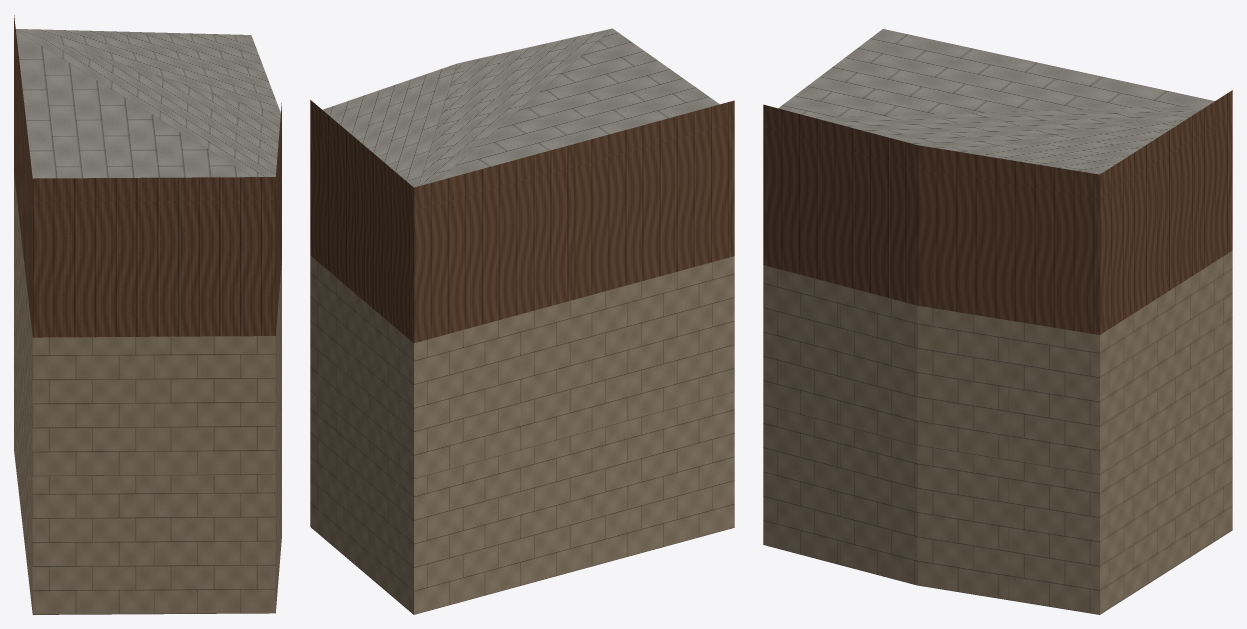
Rendered from bld_c33_-33_443.gltf.
3 renders of one model, left to right at view 1: azimuth 30°, elevation 25°; view 2: azimuth 150°, elevation 25°; view 3: azimuth 270°, elevation 25°, orthographic. The views are drawn at different scales.
Parts seen in each view (by area): view 1: bld_c33_-33_443; view 2: bld_c33_-33_443; view 3: bld_c33_-33_443.
Boxes of the visible parts, left/top/right/bottom form: bld_c33_-33_443: left=14, top=15, right=281, bottom=614; bld_c33_-33_443: left=310, top=28, right=734, bottom=614; bld_c33_-33_443: left=763, top=29, right=1232, bottom=614.
Size of the model in its own units: 5.54 by 7.08 by 6.83.
4 materials, 4 textured.
